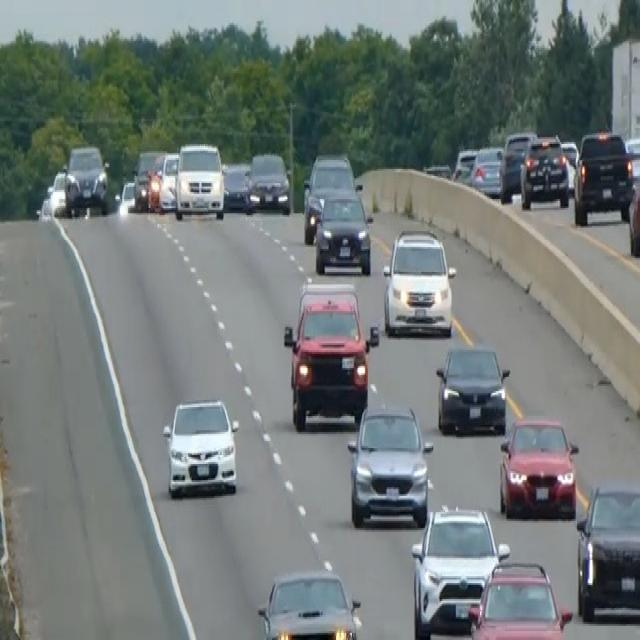car: (410, 502, 509, 638), (346, 400, 433, 528), (575, 480, 639, 622), (498, 413, 579, 519), (467, 558, 572, 638), (382, 226, 456, 338), (162, 394, 239, 498), (256, 567, 362, 638), (435, 343, 510, 436), (314, 187, 373, 276), (302, 151, 358, 242), (519, 132, 569, 210), (63, 142, 109, 217), (498, 130, 536, 201), (248, 150, 290, 213), (132, 148, 164, 210), (148, 150, 179, 212), (469, 144, 504, 197), (221, 160, 252, 212), (627, 169, 639, 258), (47, 167, 68, 217), (452, 146, 477, 185), (560, 139, 579, 190), (116, 178, 137, 213)
jeep: (282, 281, 379, 430)
minivan: (173, 138, 226, 220)
